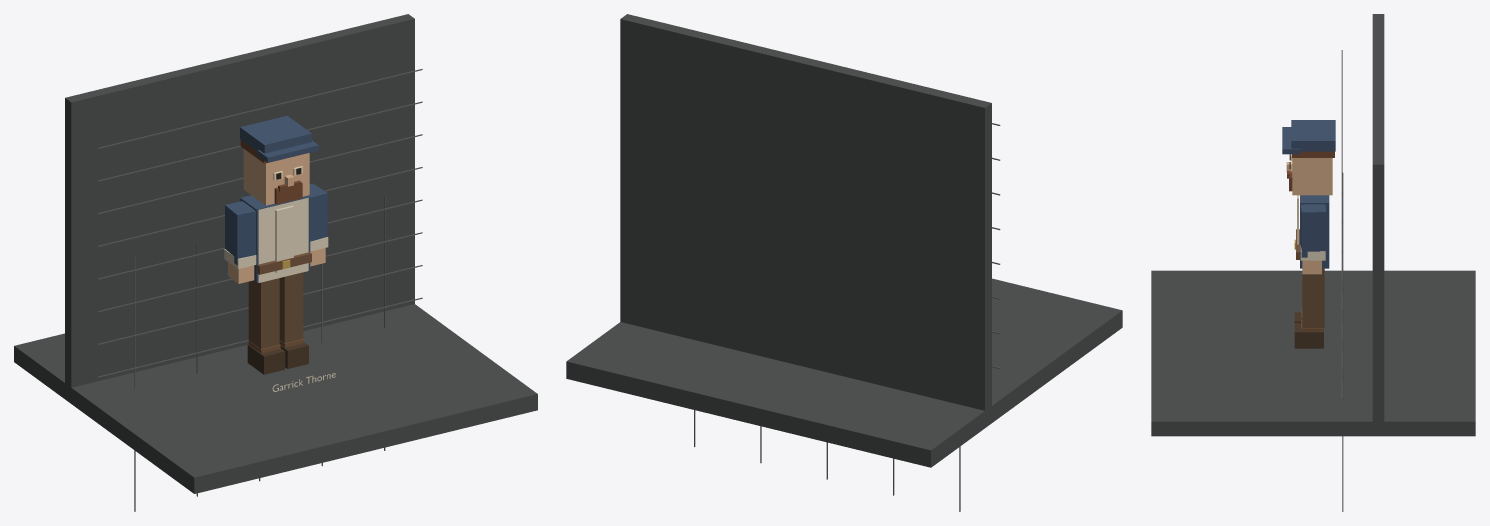
Rendered from HarbourMaster.fbx.
The picture shows the model from 3 angles, left to right: view 1: azimuth 30°, elevation 25°; view 2: azimuth 150°, elevation 25°; view 3: azimuth 270°, elevation 25°; orthographic projection. The views are drawn at different scales.
Parts seen in each view (by area): view 1: Backdrop wall, Backdrop floor, Garrick Thorne | torso, Garrick Thorne | head, Garrick Thorne | L leg, Garrick Thorne | cap crown, Garrick Thorne | R leg, Garrick Thorne | L upper arm, Garrick Thorne | shirt front, Garrick Thorne | R upper arm, Garrick Thorne | L boot, Garrick Thorne | coat body (+2 smaller); view 2: Backdrop wall, Backdrop floor; view 3: Backdrop floor, Backdrop wall, Garrick Thorne | head, Garrick Thorne | cap crown, Garrick Thorne | R upper arm, Garrick Thorne | R leg, Garrick Thorne | coat body, Garrick Thorne | R boot, Backdrop grid vertical.004.
Part boxes in pixels (x1,y1,x2,y2): Backdrop wall: (65, 14, 414, 395); Backdrop floor: (14, 304, 537, 493); Garrick Thorne | torso: (258, 197, 308, 282); Garrick Thorne | head: (243, 149, 309, 205); Garrick Thorne | L leg: (248, 278, 279, 348); Garrick Thorne | cap crown: (240, 115, 311, 153); Garrick Thorne | R leg: (279, 272, 303, 343); Garrick Thorne | L upper arm: (225, 201, 255, 265); Garrick Thorne | shirt front: (275, 205, 293, 272); Garrick Thorne | R upper arm: (309, 183, 327, 241); Garrick Thorne | L boot: (247, 344, 285, 374); Garrick Thorne | coat body: (240, 195, 310, 282); Backdrop wall: (620, 14, 991, 419); Backdrop floor: (566, 278, 1122, 467); Backdrop floor: (1151, 270, 1475, 436); Backdrop wall: (1372, 14, 1384, 429); Garrick Thorne | head: (1292, 158, 1332, 195); Garrick Thorne | cap crown: (1291, 120, 1335, 151); Garrick Thorne | R upper arm: (1300, 204, 1326, 257); Garrick Thorne | R leg: (1302, 268, 1324, 327); Garrick Thorne | coat body: (1300, 195, 1329, 268); Garrick Thorne | R boot: (1294, 323, 1323, 348); Backdrop grid vertical.004: (1342, 282, 1343, 511).
Size of the model in its own units: 550 by 625 by 500.
